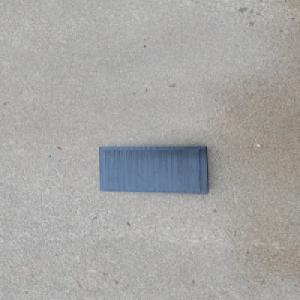PlasticPart: (97, 145, 210, 195)
